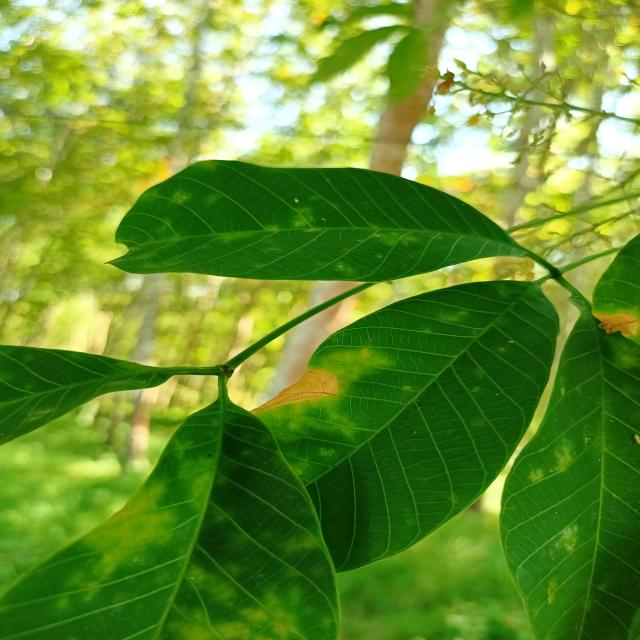Leaf-Blight: (248, 367, 338, 414), (592, 312, 640, 338)
